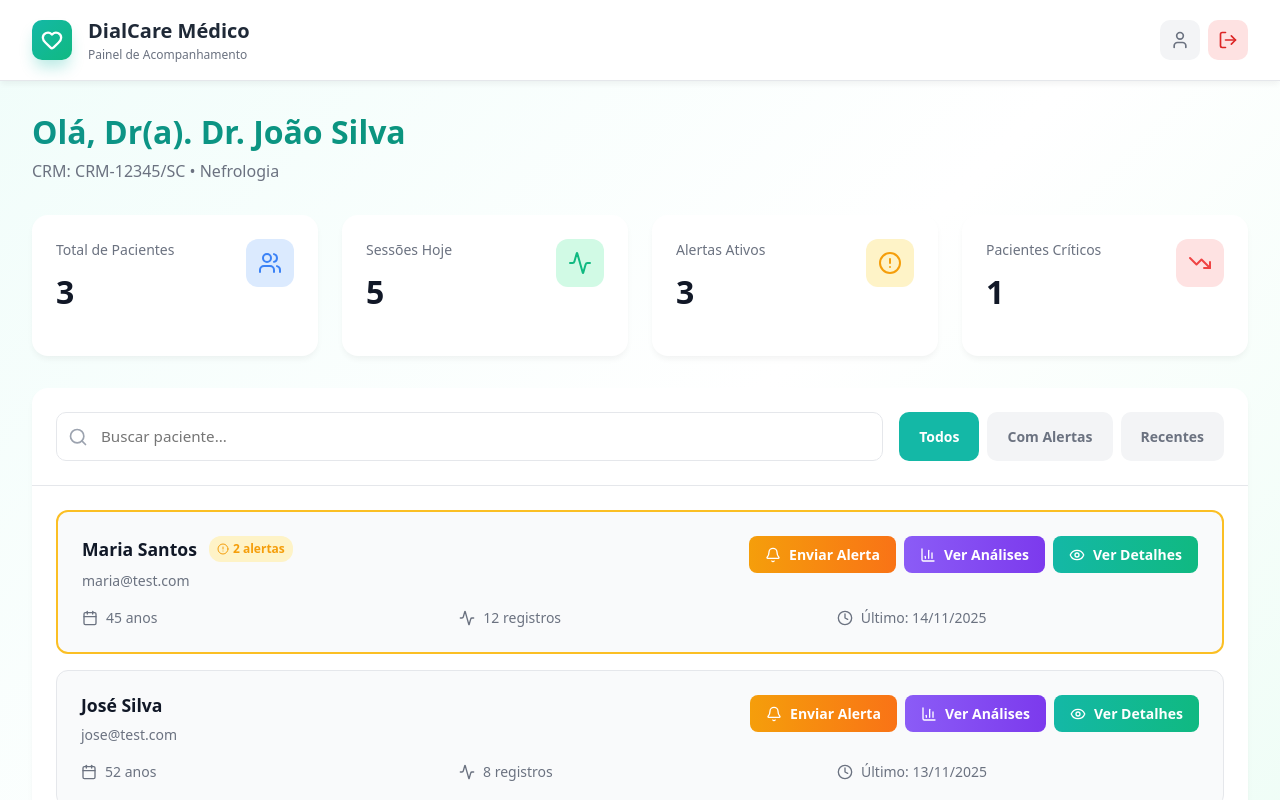
DoctorDashboard › Filtros e Busca › deve filtrar pacientes por nome
Check: the heading "Maria Santos" is shown, box [82,539,197,560]
Type "Maria" into the field with placeholder "Buscar paciente...".
click(470, 437); type("Maria")  # box [56,412,883,461]
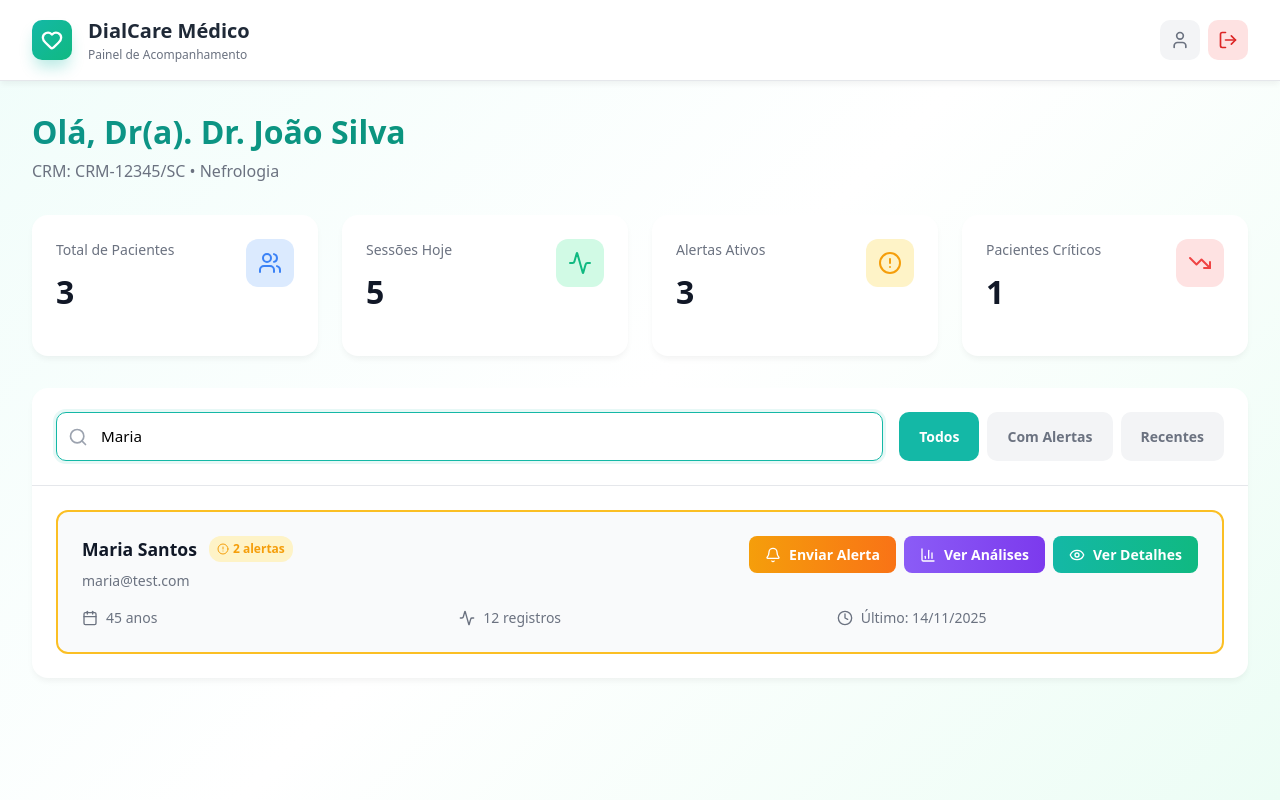
Check: the heading "Maria Santos" is shown, box [82,539,197,560]
Check: the heading "José Silva" is gone
